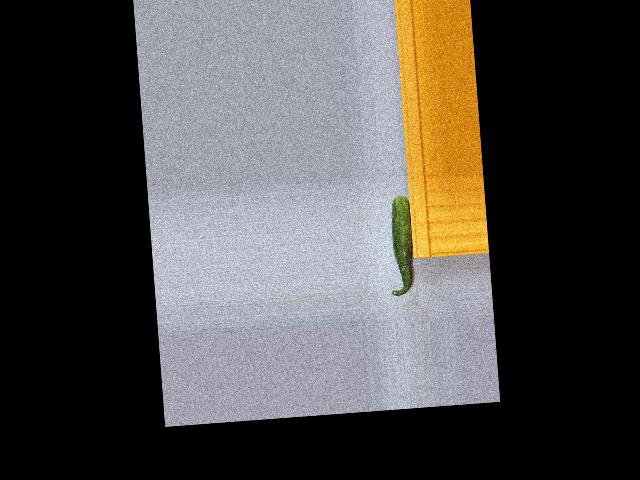cucumber: (384, 195, 416, 296)
